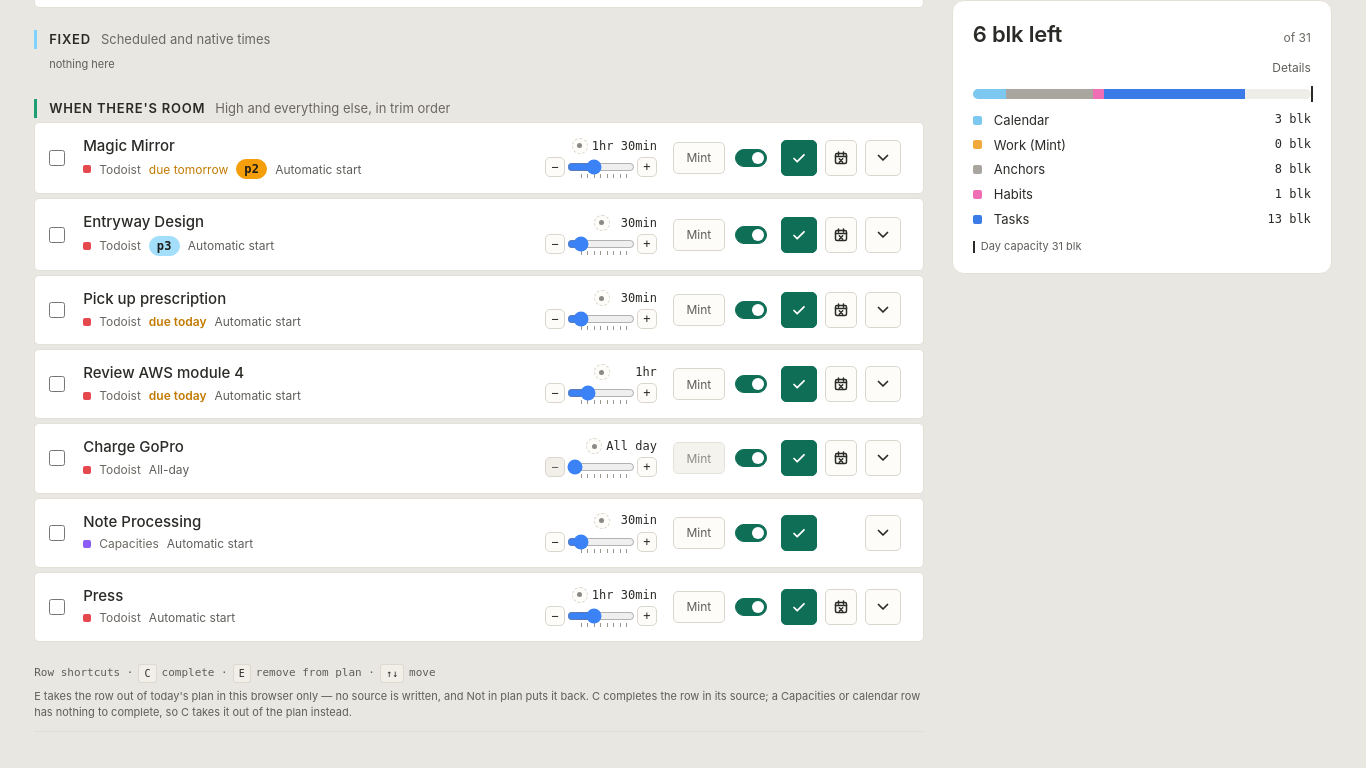
Scenario: collapsed row duration cell › leaving notch 0 applies a timed duration, not the captured one
This screenshot has width=1366, height=768.
(page scrolled)
Set the 7th slider named "Duration slider" to "0" at (575, 616), box top-left (567, 605), bottom-right (635, 627)
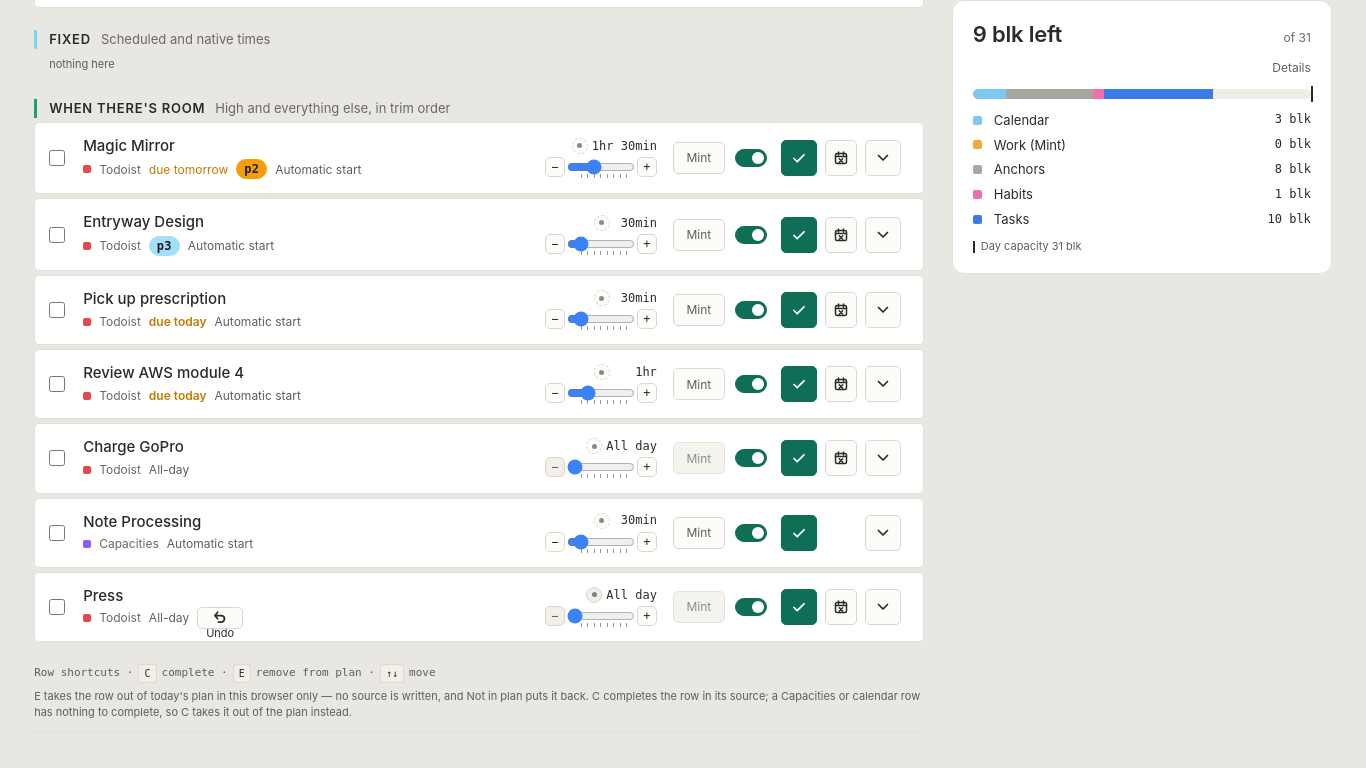
Set the 7th slider named "Duration slider" to "45" at (585, 616), box top-left (567, 605), bottom-right (635, 627)
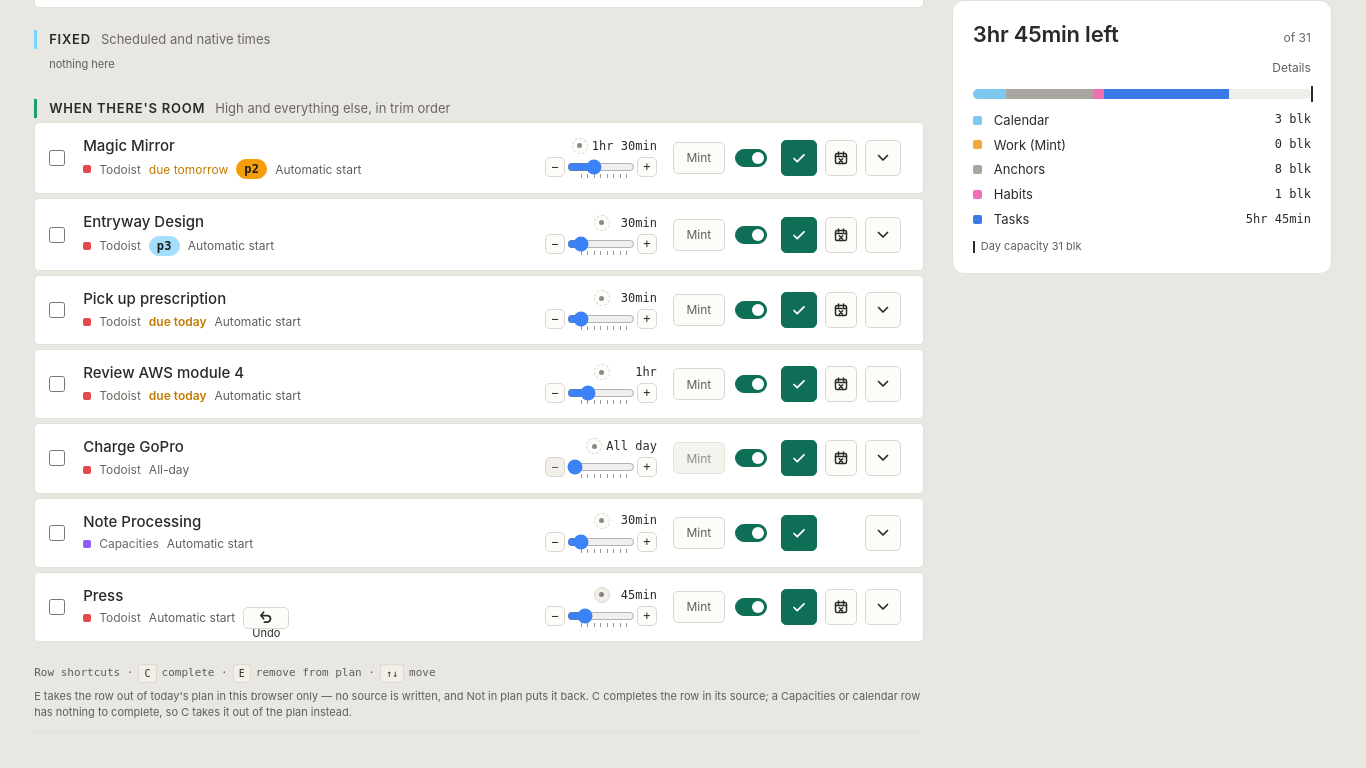
Expected: the text with class "dslider__label" reads "45min", top-left (621, 588), bottom-right (657, 602)
